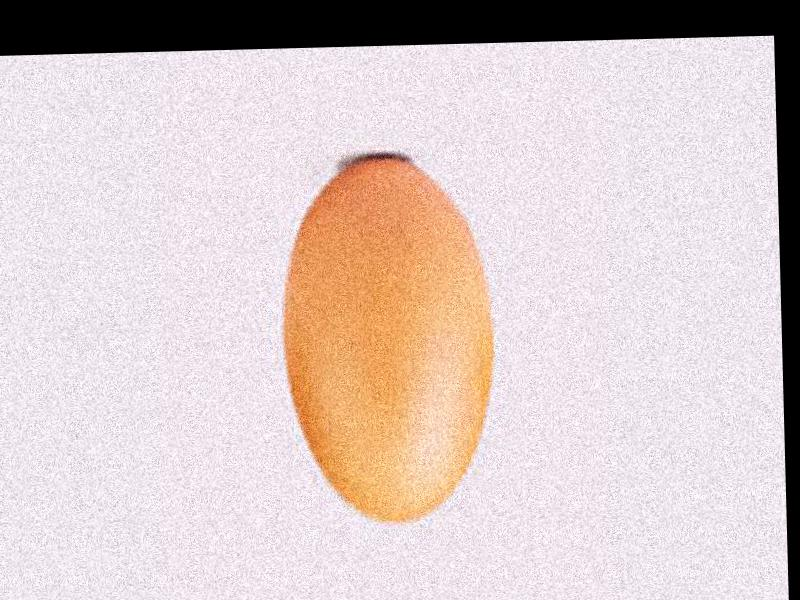Eggs: (280, 152, 495, 531)
